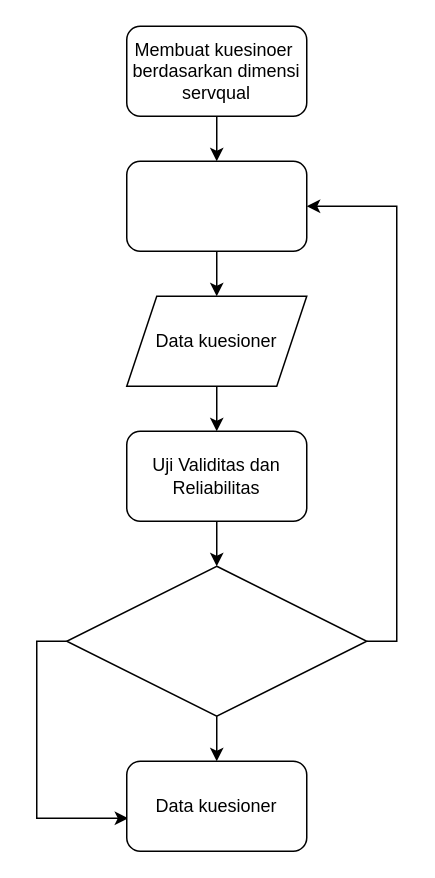
This 435x878 diagram has some shape labels left out. The box of each missing label's shape, as (x1, y1, x2, y2) in pixels:
Apakah kuesioner valid atau reliabel?: (65, 565, 367, 716)
Kuesioner disebarkan ke responden: (125, 160, 307, 251)
